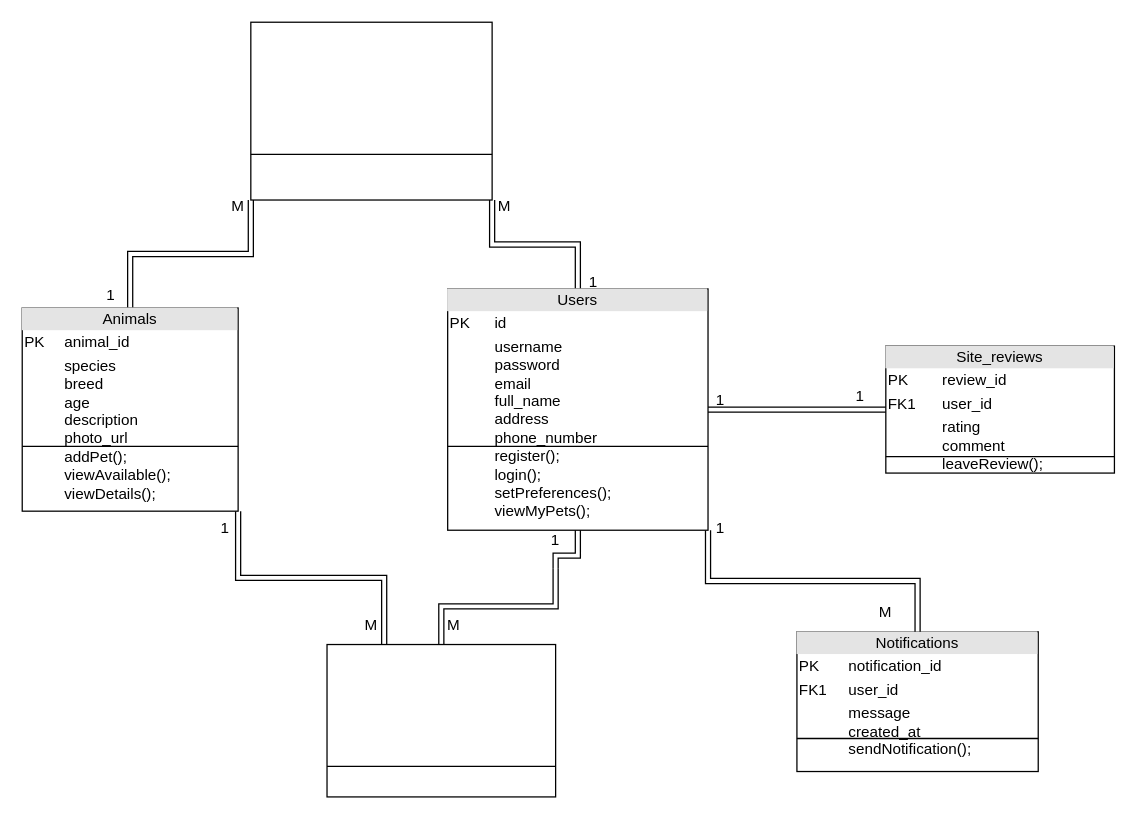
Some shapes in this 1137 by 819 pixel diagram are drawn without their labels. The shapes that lost their labels are listed below. From the top down, each one's box as (x1, y1, x2, y2) in pixels, then its label:
(250, 21, 492, 200): Adoptions PK adoption_id FK1 FK2 user_id animal_id type created_at adoptPet();
(326, 643, 556, 797): Preferences PK preference_id FK1 FK2 user_id animal_id status setPreferences();
